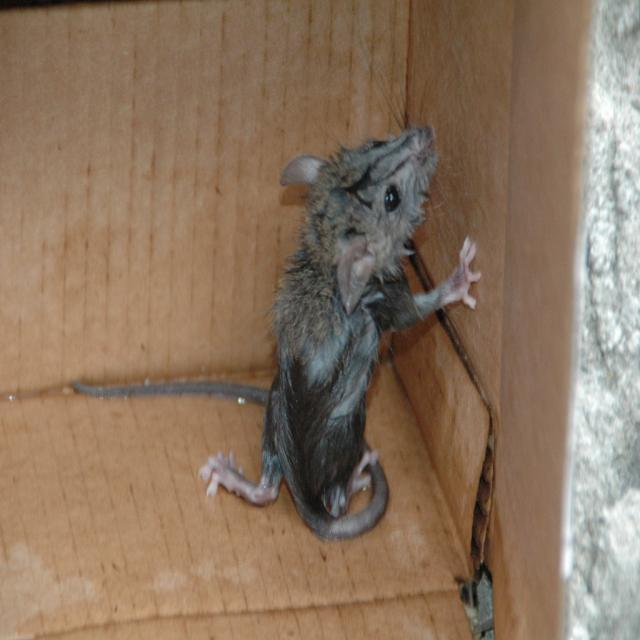rat: (76, 49, 478, 539)
